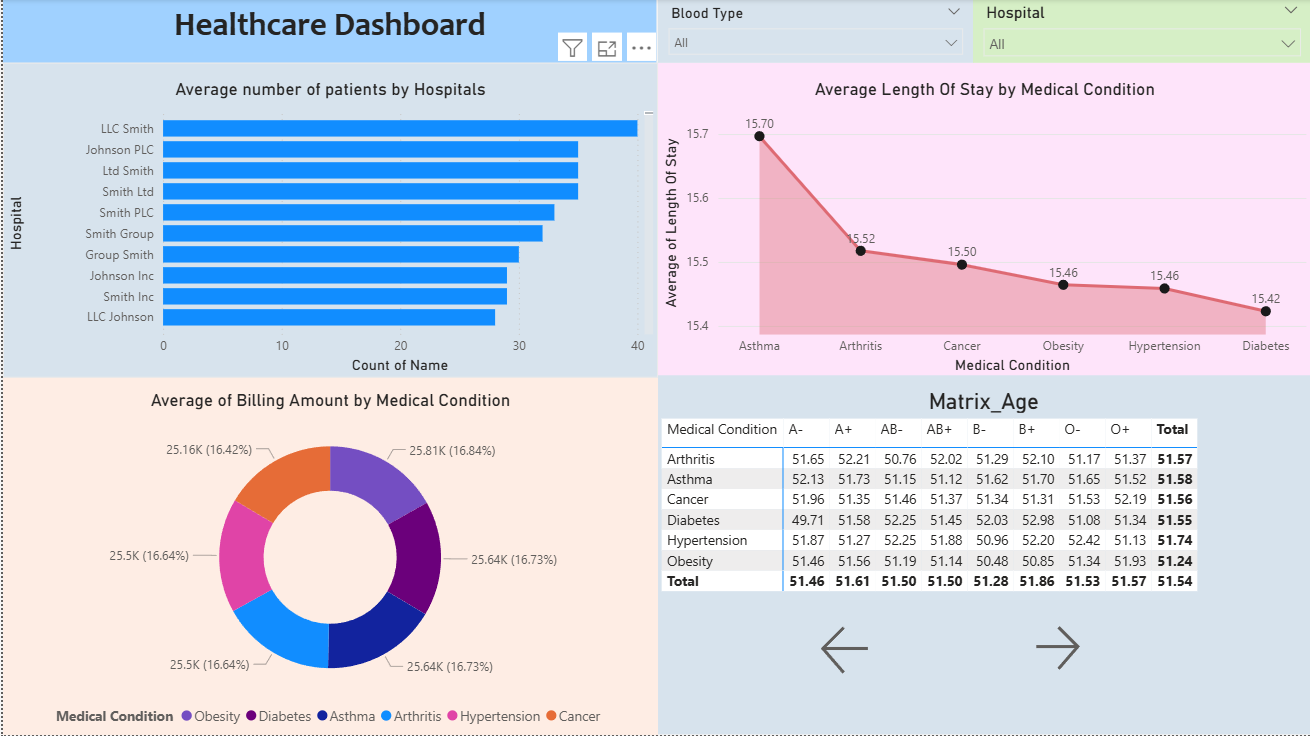

What the dashboard file says about the page in this screenshot:
{"tool":"powerbi","page":{"name":"Page 1","canvas":[1280,720],"ordinal":0},"visuals":[{"type":"textbox","box":[0,0,639.5,62],"z":1000},{"type":"stackedAreaChart","title":"Average Length Of Stay by Medical Condition","fields":{"Category":["healthcare_dataset.Medical Condition"],"Y":["healthcare_dataset.Length Of Stay"]},"box":[640.8,62,639.5,308.7],"z":2000},{"type":"pivotTable","title":"Matrix_Age","fields":{"Rows":["healthcare_dataset.Medical Condition"],"Values":["healthcare_dataset.Age"],"Columns":["healthcare_dataset.Blood Type"]},"box":[639.8,368,639.8,351.1],"z":3000},{"type":"clusteredBarChart","title":"Average number of patients by Hospitals","fields":{"Y":["healthcare_dataset.Name"],"Category":["healthcare_dataset.Hospital"]},"box":[0,62,640.8,308.7],"z":4000},{"type":"donutChart","fields":{"Y":["healthcare_dataset.Billing Amount"],"Category":["healthcare_dataset.Medical Condition"]},"box":[0,370.5,640.8,349.9],"z":5000},{"type":"slicer","fields":{"Values":["healthcare_dataset.Blood Type"]},"box":[640.8,0,308.7,62],"z":6000},{"type":"slicer","title":"Hospital","fields":{"Values":["healthcare_dataset.Hospital"]},"box":[949.5,0,330.8,62],"z":7000},{"type":"actionButton","box":[1004.1,607.7,75.5,54.7],"z":7001},{"type":"actionButton","box":[794.6,607.7,149.1,58.5],"z":7002}]}

Visuals, with their boxes in screenshot pixels (x1, y1, x2, y2), scaled from the page's 1280x720 canvas onto the 1310x736 screenshot:
textbox: (x1=0, y1=0, x2=654, y2=63)
"Average Length Of Stay by Medical Condition" stackedAreaChart: (x1=656, y1=63, x2=1309, y2=379)
"Matrix_Age" pivotTable: (x1=655, y1=376, x2=1309, y2=735)
"Average number of patients by Hospitals" clusteredBarChart: (x1=0, y1=63, x2=656, y2=379)
donutChart - healthcare_dataset.Billing Amount x healthcare_dataset.Medical Condition: (x1=0, y1=379, x2=656, y2=735)
slicer - healthcare_dataset.Blood Type: (x1=656, y1=0, x2=972, y2=63)
"Hospital" slicer: (x1=972, y1=0, x2=1309, y2=63)
actionButton: (x1=1028, y1=621, x2=1105, y2=677)
actionButton: (x1=813, y1=621, x2=966, y2=681)
